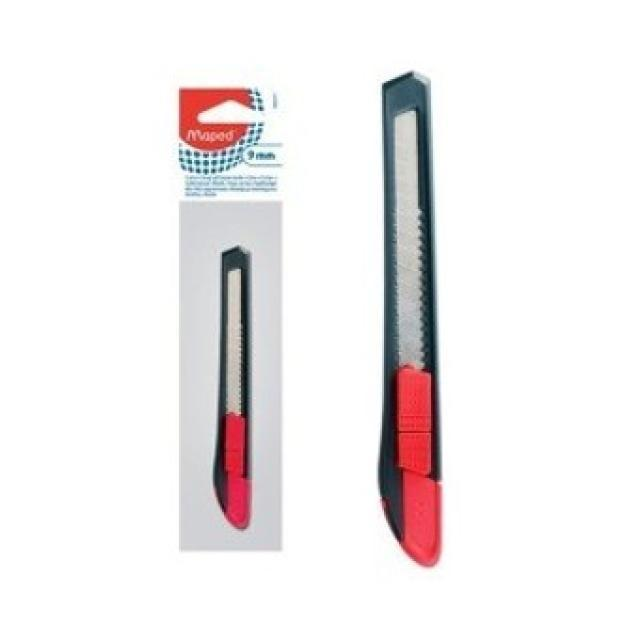cutter: (362, 31, 462, 580), (198, 208, 270, 548)
